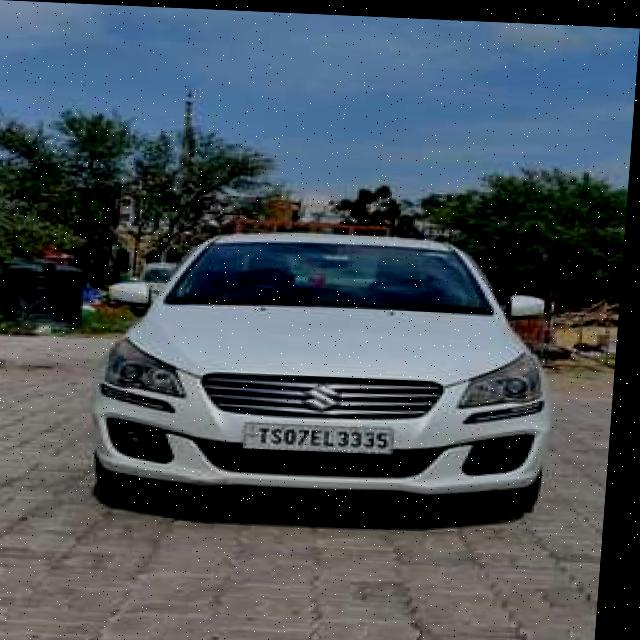plate: (254, 418, 404, 449)
